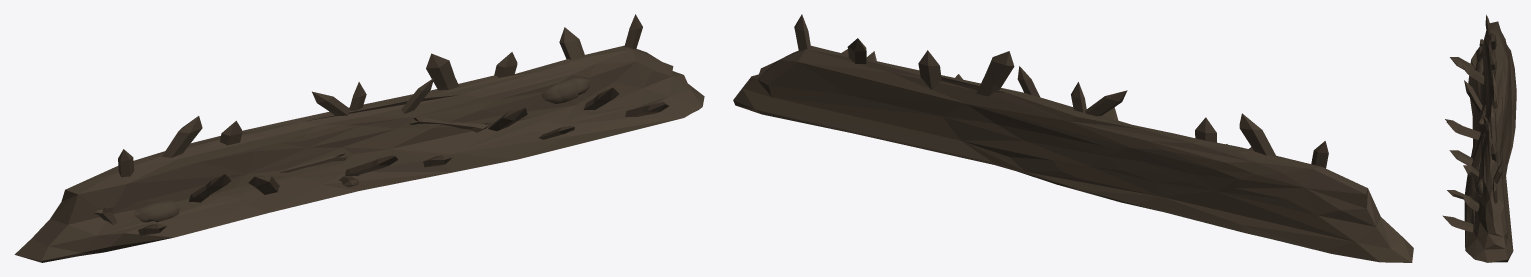
Rendered from bog_fence.gltf.
The picture shows the model from 3 angles, left to right: view 1: azimuth 30°, elevation 25°; view 2: azimuth 150°, elevation 25°; view 3: azimuth 270°, elevation 25°; orthographic projection. The views are drawn at different scales.
Visible parts, largest first — view 1: bog_fence; view 2: bog_fence; view 3: bog_fence.
Boxes of the visible parts, left/top/right/bottom form: bog_fence: left=14, top=14, right=704, bottom=262; bog_fence: left=733, top=14, right=1413, bottom=262; bog_fence: left=1442, top=14, right=1516, bottom=262.
Size of the model in its own units: 10.01 by 1.58 by 1.43.
Materials: 1 (1 with a texture image).
